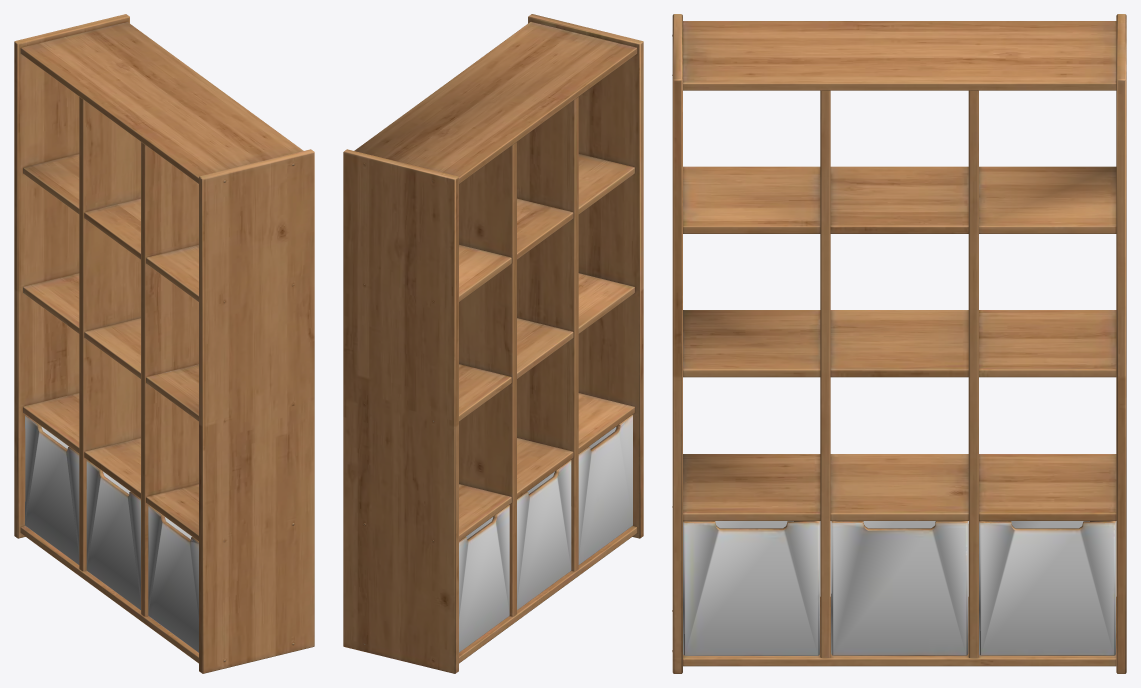
File: wooden_display_shelves_01.glb
3 renders of one model, left to right at view 1: azimuth 30°, elevation 25°; view 2: azimuth 150°, elevation 25°; view 3: azimuth 270°, elevation 25°, orthographic. The views are drawn at different scales.
Parts seen in each view (by area): view 1: wooden_display_shelves_01; view 2: wooden_display_shelves_01; view 3: wooden_display_shelves_01.
Part boxes in pixels (left/top/right/bottom): wooden_display_shelves_01: left=14, top=14, right=314, bottom=673; wooden_display_shelves_01: left=343, top=14, right=643, bottom=673; wooden_display_shelves_01: left=672, top=14, right=1126, bottom=673.
Bounding box in the file's own units: 0.3714 × 1.56 × 1.08.
Materials: 1 (1 with a texture image).
